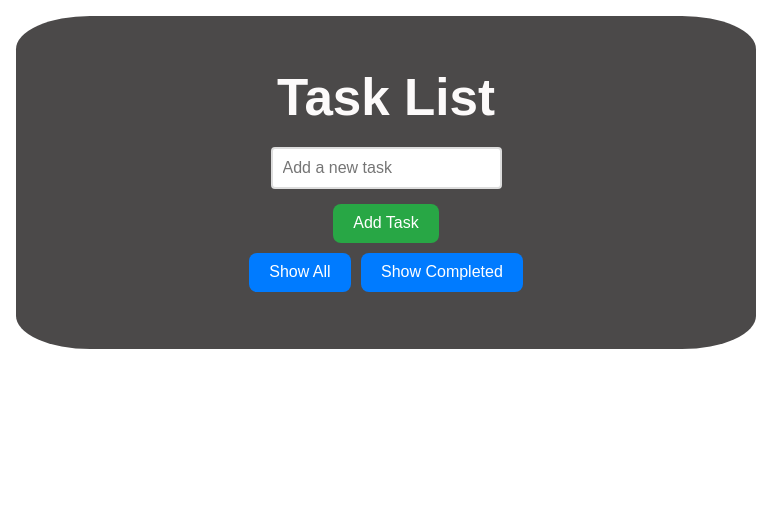
Test case: TaskList Component › should filter completed tasks
The width and height of the screenshot is (773, 528).
# Adiciona duas tarefas
Type "Task 1" into the field with test id "task-input".
click(387, 168); type("Task 1")  # box x1=271 y1=147 x2=502 y2=189
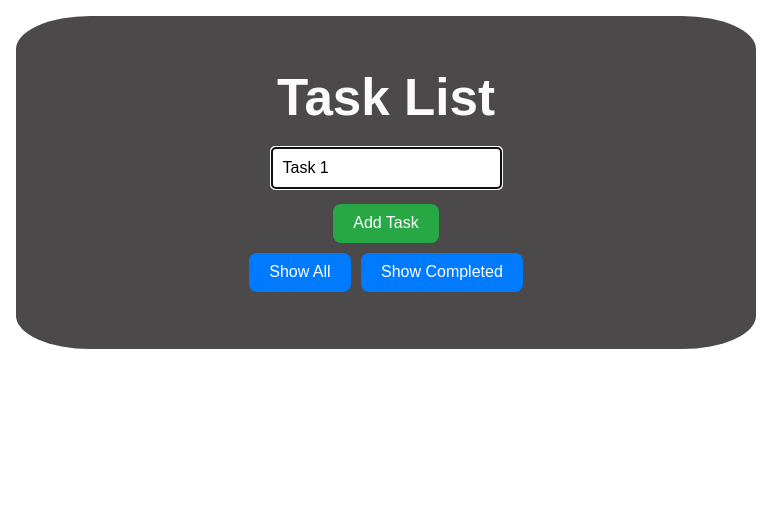
Click the button with class "addTask".
click(386, 224)  # box x1=333 y1=204 x2=439 y2=243
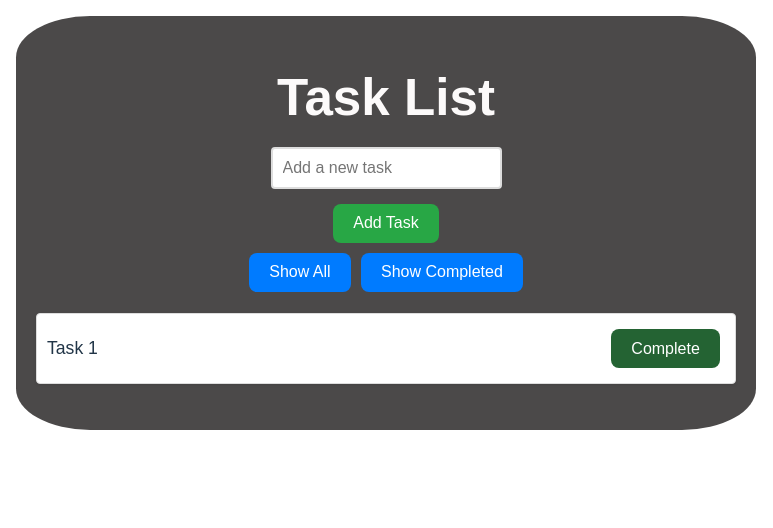
Type "Task 2" into the field with test id "task-input".
click(387, 168); type("Task 2")  # box x1=271 y1=147 x2=502 y2=189
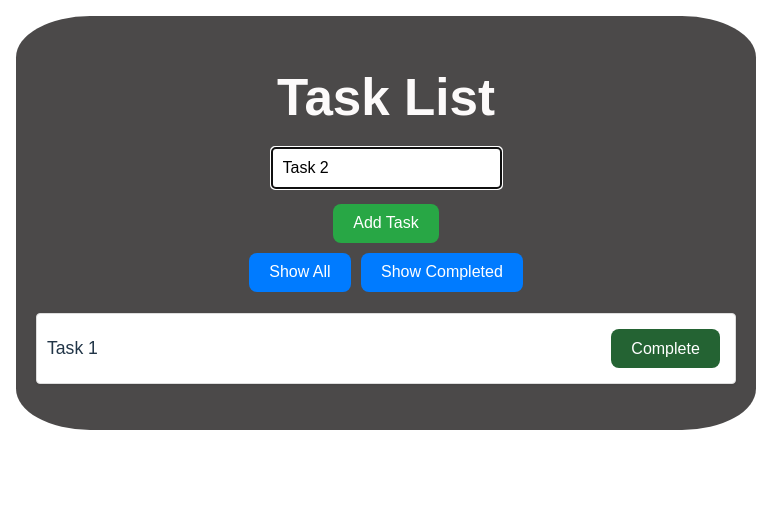
Click the button with class "addTask".
click(386, 224)  # box x1=333 y1=204 x2=439 y2=243
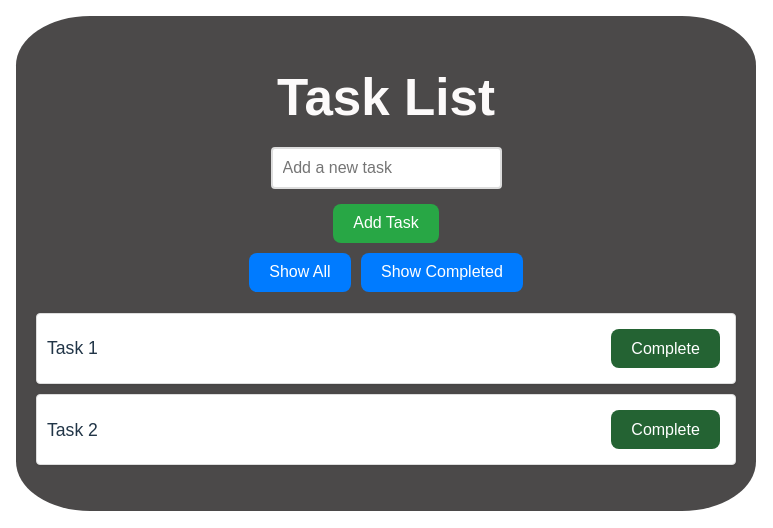
# Marca a primeira tarefa como concluída
Click the button with class "complete" in the row of "Task 1".
click(666, 349)  # box x1=611 y1=329 x2=720 y2=368
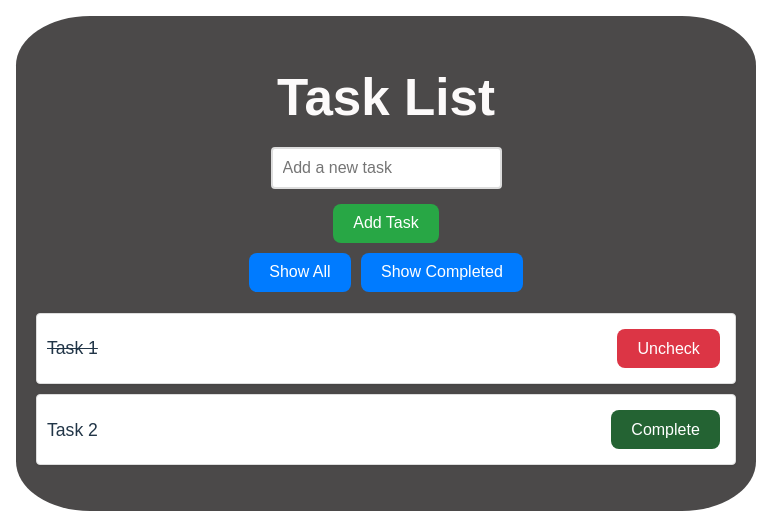
# Aplica o filtro para mostrar apenas tarefas concluídas
Click the button "Show Completed".
click(442, 273)  # box x1=361 y1=253 x2=523 y2=292
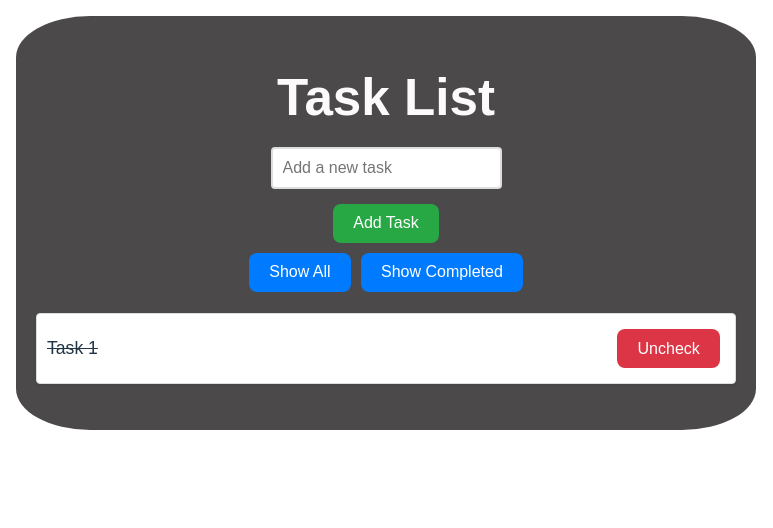
Check: the text "Task 1" is shown, box x1=47 y1=335 x2=98 y2=362
Check: the number of list items with class "taskItem" is 1, box x1=36 y1=313 x2=736 y2=384
